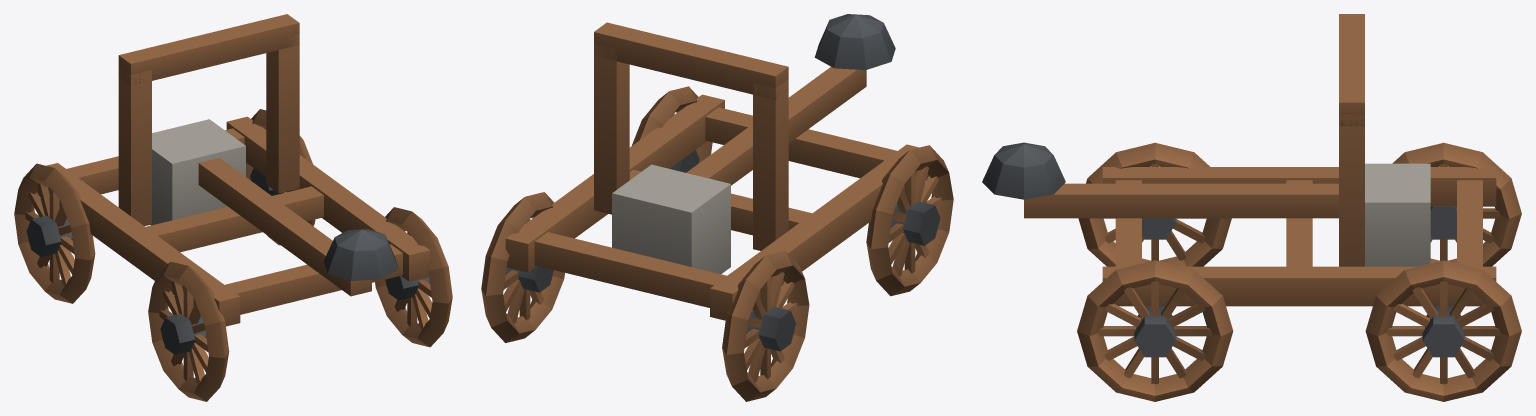
File: CATAPULT.glb
3 views of the same model, side by side, from view 1: azimuth 30°, elevation 25°; view 2: azimuth 150°, elevation 25°; view 3: azimuth 270°, elevation 25° (orthographic). The views are drawn at different scales.
Visible parts, largest first — view 1: Body, Arm, Wheel_0, Wheel_2, Wheel_1, Wheel_3; view 2: Body, Arm, Wheel_2, Wheel_0, Wheel_3, Wheel_1; view 3: Body, Arm, Wheel_1, Wheel_3, Wheel_0, Wheel_2.
Boxes of the visible parts, x1,y1,x2,y2 form: Body: (37, 14, 430, 326); Arm: (150, 119, 398, 296); Wheel_0: (148, 261, 229, 401); Wheel_2: (14, 163, 95, 303); Wheel_1: (375, 207, 452, 347); Wheel_3: (246, 109, 315, 245); Body: (505, 22, 928, 320); Arm: (612, 14, 895, 273); Wheel_2: (722, 251, 809, 401); Wheel_0: (866, 145, 953, 296); Wheel_3: (481, 192, 564, 342); Wheel_1: (632, 86, 712, 172); Body: (1102, 14, 1496, 306); Arm: (982, 142, 1430, 266); Wheel_1: (1077, 260, 1233, 401); Wheel_3: (1365, 260, 1521, 401); Wheel_0: (1078, 142, 1231, 266); Wheel_2: (1392, 142, 1521, 266).
Bounding box in the file's own units: 1.24 × 1.2 × 2.06.
Materials: 1 (1 with a texture image).
